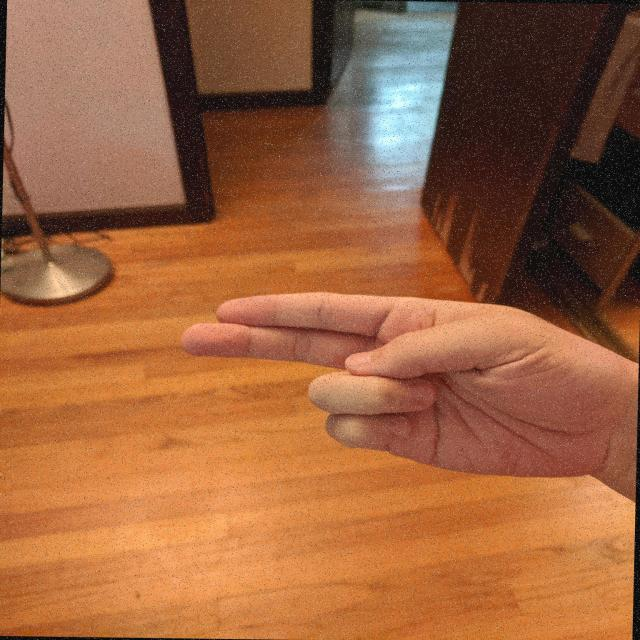H: (167, 283, 612, 486)
